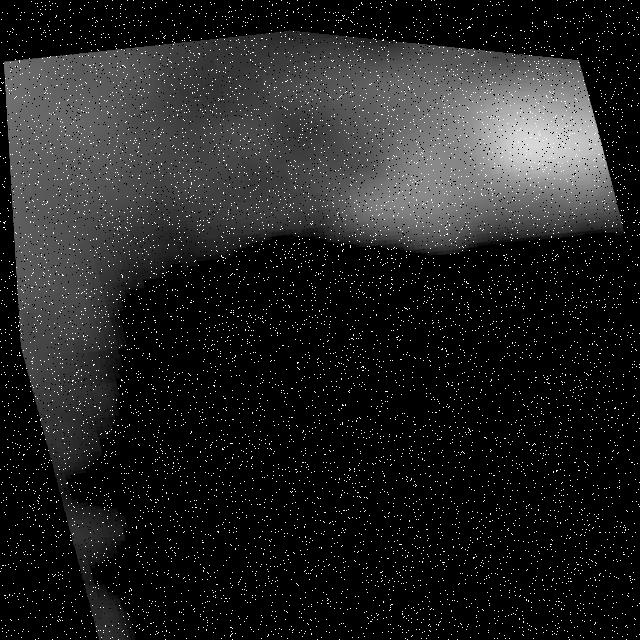person: (222, 19, 624, 284)
